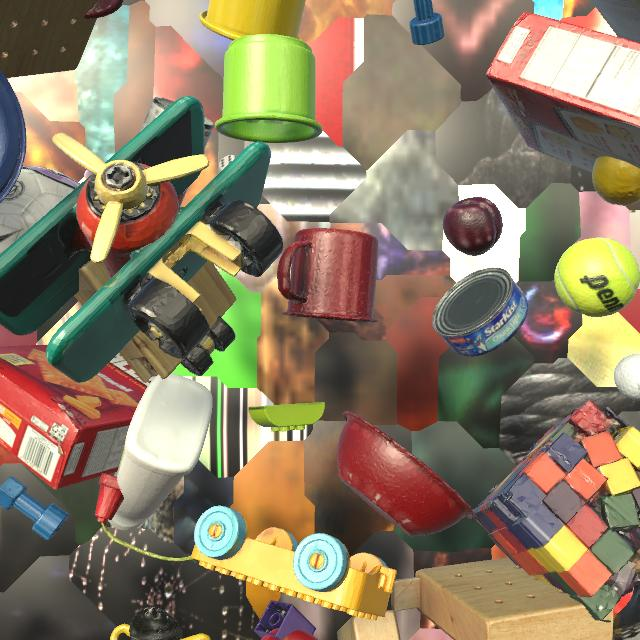ycb_003_cracker_box: (486, 11, 640, 173), (0, 345, 156, 490)
ycb_004_sugar_box: (590, 0, 640, 43)
ycb_005_tomato_soup_can: (139, 97, 214, 207)
ycb_007_tuna_fish_can: (432, 267, 528, 357)
ycb_013_apple: (261, 628, 318, 640)
ycb_014_lemon: (592, 156, 640, 206)
ycb_018_plum: (443, 197, 503, 256)
